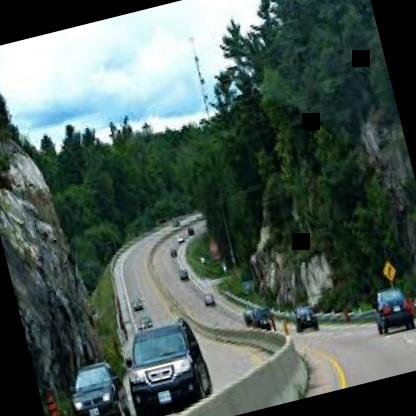car: (109, 302, 225, 416), (44, 337, 132, 416), (361, 264, 416, 360), (284, 292, 326, 340), (129, 290, 151, 320), (173, 260, 193, 291), (199, 290, 220, 314)
